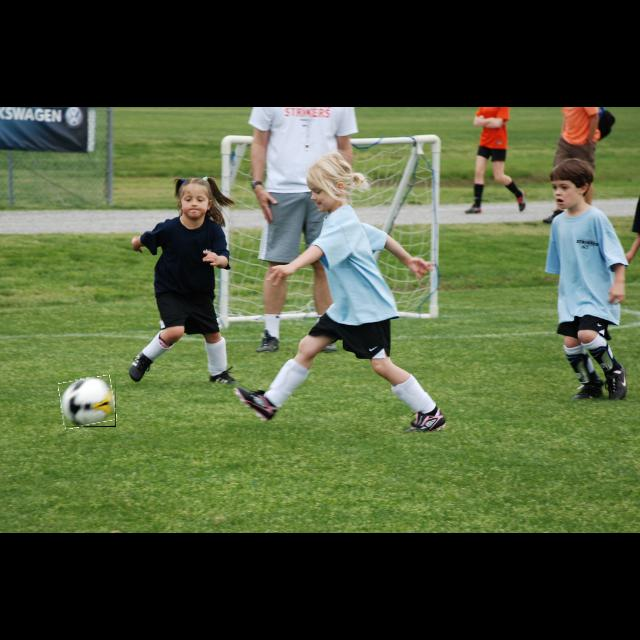Football: (60, 377, 116, 427)
